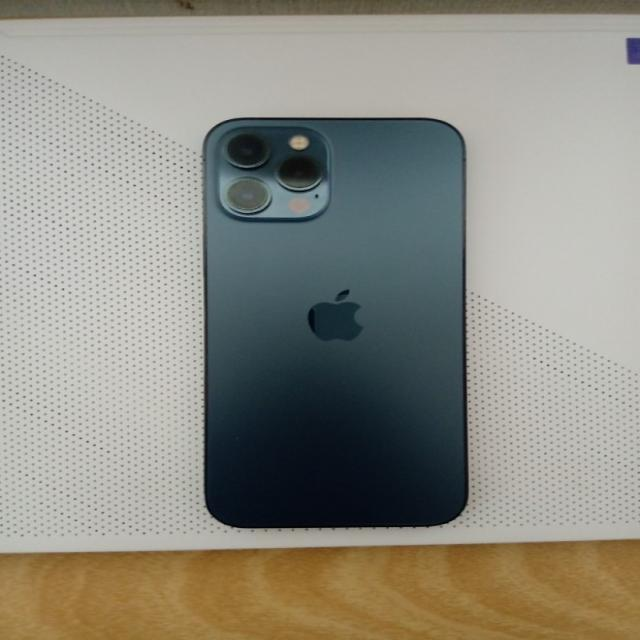phone: (202, 117, 467, 529)
